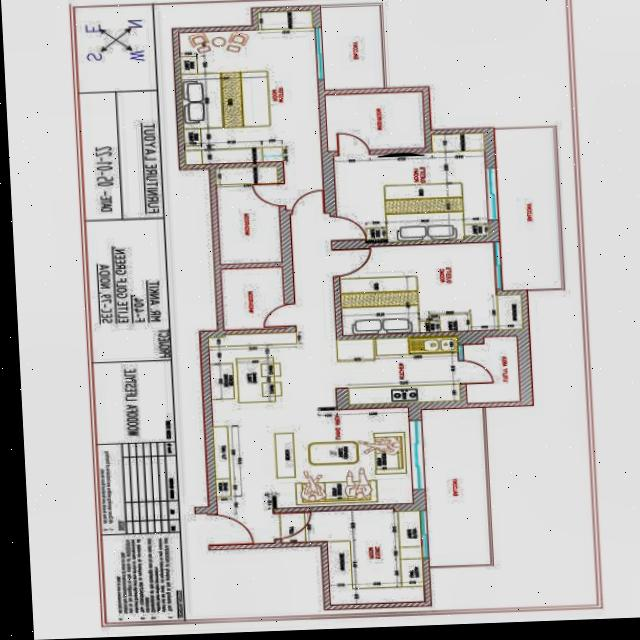room: (174, 9, 322, 173), (337, 241, 522, 336), (332, 133, 488, 242), (279, 509, 426, 606), (270, 407, 411, 508), (493, 127, 561, 292), (421, 407, 489, 567), (335, 334, 460, 407), (217, 165, 281, 265), (325, 91, 425, 152), (319, 4, 383, 91), (219, 267, 285, 331), (463, 336, 519, 404)
